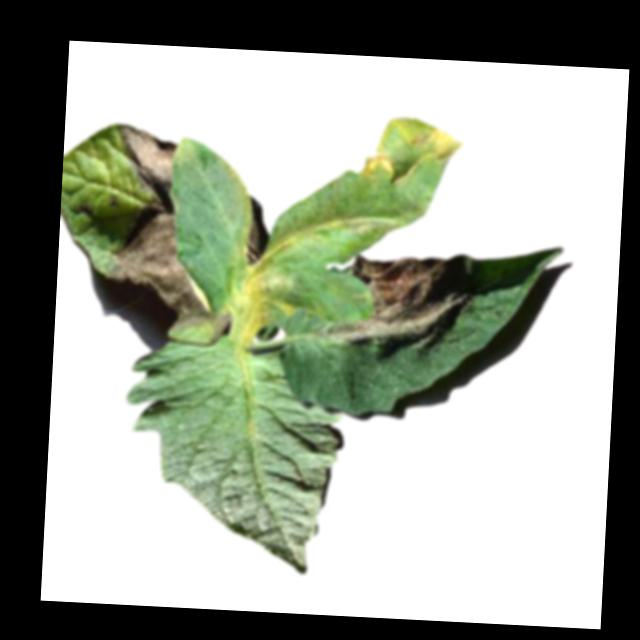Late_blight: (107, 123, 220, 330), (330, 246, 476, 354), (357, 114, 465, 190), (231, 251, 301, 332), (241, 195, 271, 269), (209, 309, 231, 341)
